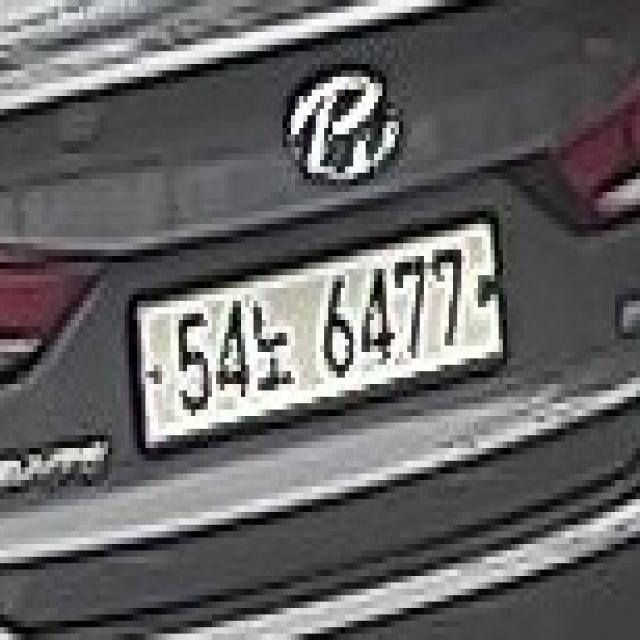4: (357, 243, 395, 384), (216, 282, 249, 422)
5: (170, 282, 212, 422)
6: (312, 256, 362, 397)
7: (391, 224, 424, 384), (428, 237, 470, 358)
license_plate: (117, 211, 516, 480)
no: (245, 288, 295, 397)
